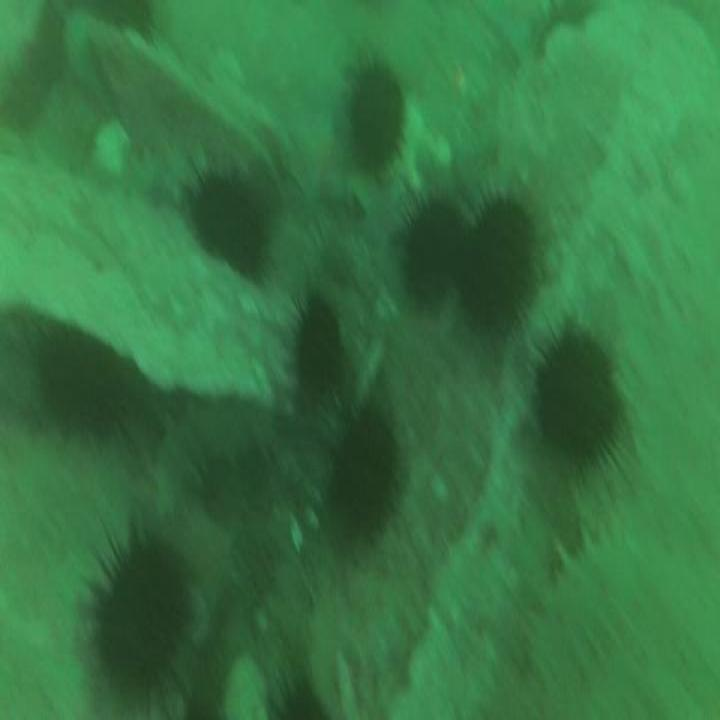echinus: (99, 539, 189, 686), (539, 326, 617, 463), (467, 197, 534, 327), (42, 334, 124, 436), (195, 178, 267, 276), (333, 413, 394, 519), (407, 197, 461, 311), (349, 61, 402, 172), (296, 300, 344, 395)
holothurian: (531, 528, 640, 684), (154, 402, 276, 508)
